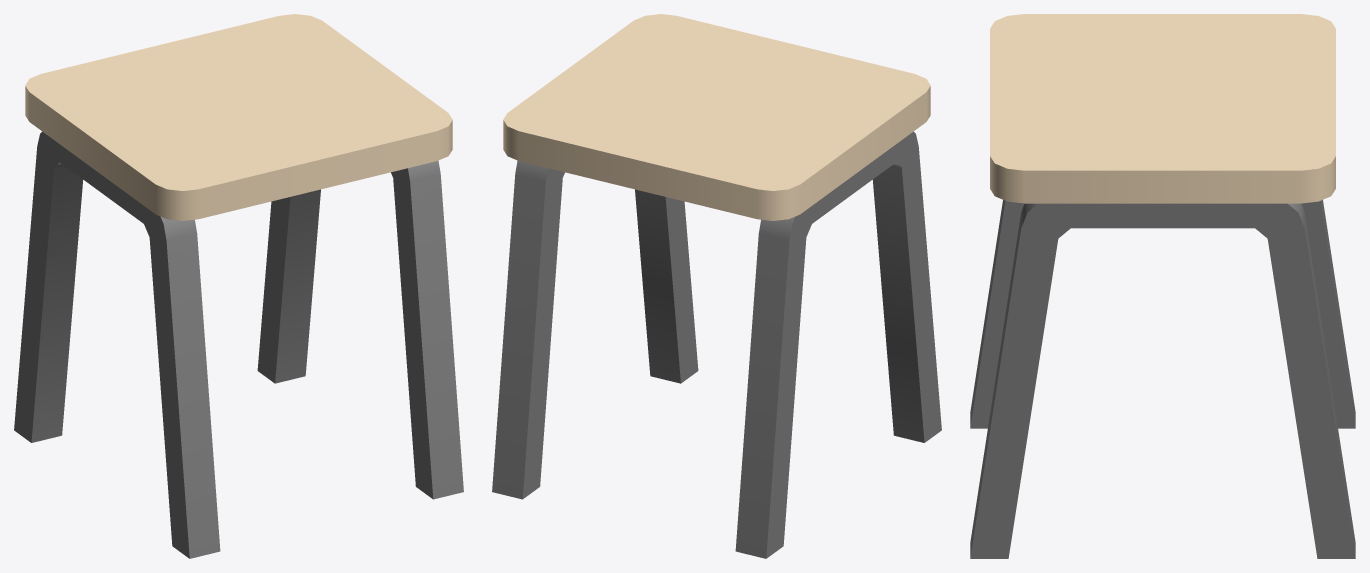
File: Stool_A.fbx
3 renders of one model, left to right at view 1: azimuth 30°, elevation 25°; view 2: azimuth 150°, elevation 25°; view 3: azimuth 270°, elevation 25°, orthographic. The views are drawn at different scales.
Parts seen in each view (by area): view 1: Stool A; view 2: Stool A; view 3: Stool A.
Part boxes in pixels (x1,y1,x2,y2): Stool A: [14, 14, 463, 558]; Stool A: [492, 14, 941, 558]; Stool A: [970, 14, 1355, 558].
Size of the model in its own units: 61.1 by 71.49 by 63.49.
